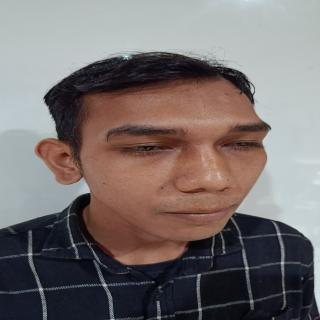Netral: (82, 74, 281, 249)
